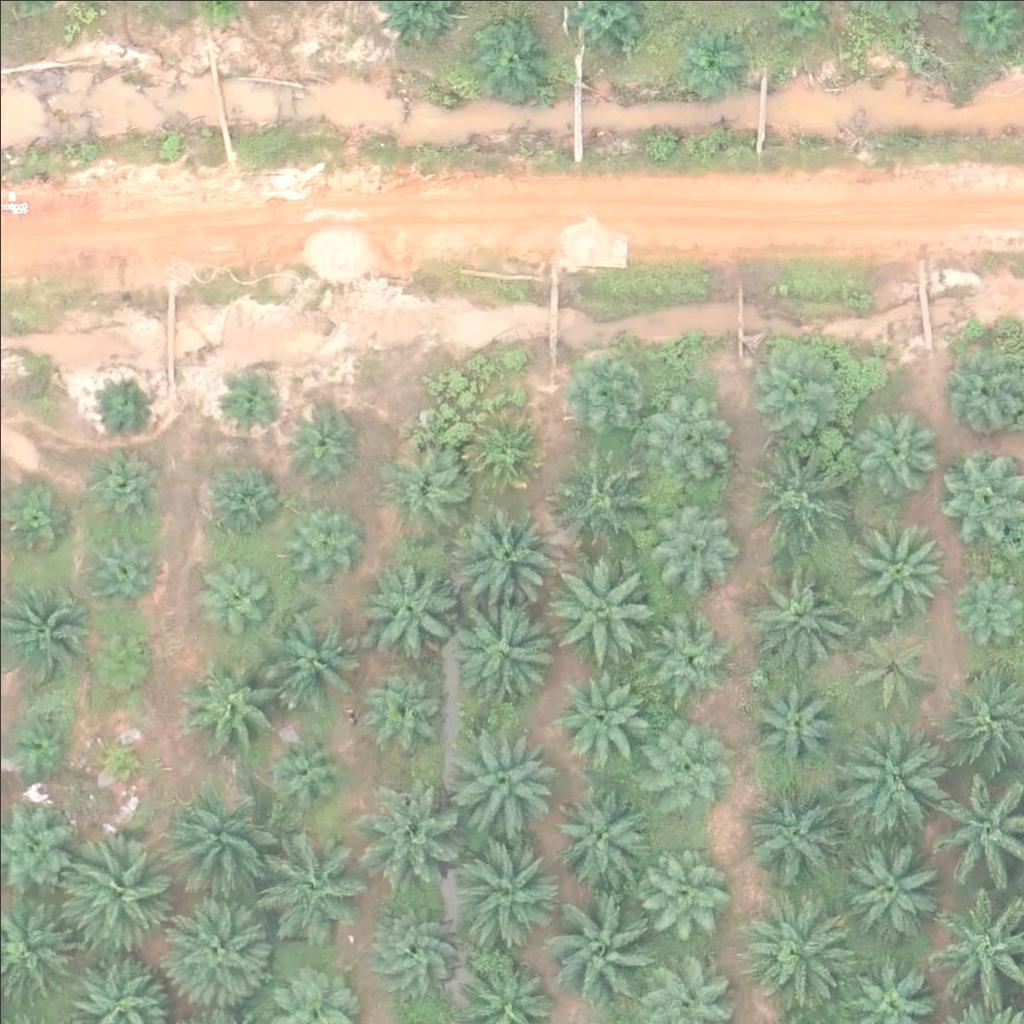Kelapa_Sawit: (451, 725, 564, 839), (165, 893, 278, 1006), (446, 499, 559, 612), (454, 595, 567, 708), (741, 887, 854, 1000), (831, 830, 944, 943), (166, 790, 278, 904), (449, 829, 561, 943), (547, 552, 659, 666), (65, 836, 177, 949), (355, 785, 467, 898), (551, 891, 663, 1004), (747, 430, 859, 543), (834, 714, 946, 827), (184, 651, 284, 752), (270, 602, 370, 703), (270, 830, 370, 931), (360, 554, 460, 655), (554, 786, 654, 887), (552, 449, 652, 550), (750, 556, 850, 657), (846, 516, 946, 617), (365, 897, 465, 997), (741, 330, 841, 430), (744, 781, 843, 882), (83, 442, 171, 530), (464, 404, 552, 492), (261, 726, 349, 814), (554, 666, 642, 754), (652, 498, 740, 586), (642, 390, 729, 479), (844, 622, 931, 711), (466, 14, 553, 102), (74, 523, 161, 611), (357, 657, 444, 745), (380, 437, 467, 525), (564, 345, 651, 433), (652, 620, 739, 708), (643, 732, 730, 820), (640, 847, 727, 935), (749, 681, 836, 769), (847, 401, 934, 489), (203, 552, 278, 628), (201, 464, 276, 540), (2, 704, 77, 780), (83, 617, 158, 693), (283, 498, 358, 573), (285, 398, 360, 473), (683, 32, 746, 95), (224, 369, 287, 432), (92, 373, 154, 436), (89, 729, 151, 792)
